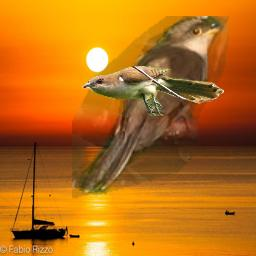Cuckoo: (72, 16, 229, 199), (82, 66, 225, 116)
